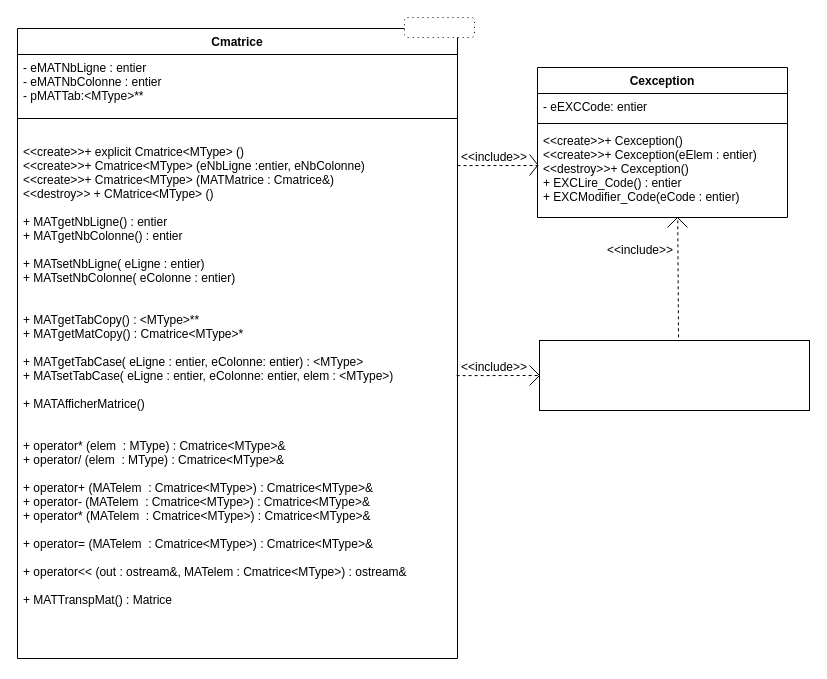
Image size: 827x679. Some labels were removed from this diagram. The shapes that lost their labels are listed below. From the top down, each one's centre as x and y in pixels, then its label:
At point 439,27: "MType:".
At point 674,375: "<<Interface>> FileReader + createLfMatFromFile(pcPath : char*): Cmatrice*".
